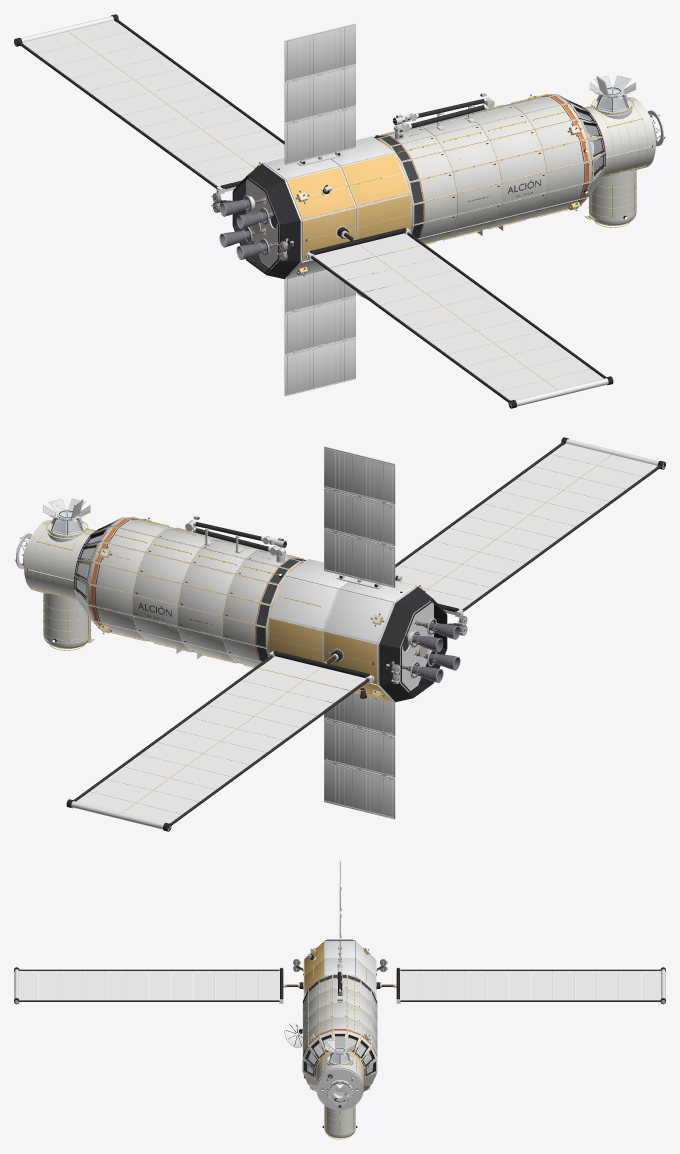
The model's file is alcion_hx4_exterior.glb.
The picture shows the model from 3 angles, top to bottom: view 1: azimuth 30°, elevation 25°; view 2: azimuth 150°, elevation 25°; view 3: azimuth 270°, elevation 25°; orthographic projection. The views are drawn at different scales.
Parts seen in each view (by area): view 1: THR.R1.PNL.P3, THR.R2.PNL.P3, THR.R1.PNL.P1, THR.R1.PNL.P2, THR.R2.PNL.P2, PRP.STR.SKT, SVC.SKN.R1.P4, SVC.SKN.R2.P4, FWD.ALK.MMOD, FWD.MMOD.BLK2, THR.R2.PNL.P1, SVC.SKN.R1.P5 (+57 smaller); view 2: THR.R1.PNL.P3, THR.R2.PNL.P3, THR.R2.PNL.P2, THR.R1.PNL.P1, THR.R1.PNL.P2, PRP.STR.SKT, SVC.SKN.R1.P2, SVC.SKN.R2.P2, FWD.ALK.MMOD, FWD.MMOD.BLK1, THR.R2.PNL.P1, SVC.SKN.R1.P1 (+57 smaller); view 3: FWD.STR.BHF, FWD.ALK.MMOD, PWR.W1.BLK.S02, PWR.W1.BLK.S03, PWR.W1.BLK.S04, PWR.W1.BLK.S05, PWR.W1.BLK.S06, PWR.W1.BLK.S07, PWR.W1.BLK.S08, PWR.W1.BLK.S09, PWR.W1.BLK.S10, PWR.W1.BLK.S11 (+20 smaller).
Part boxes in pixels (x1=…): THR.R1.PNL.P3: x1=284, y1=23, x2=355, y2=81; THR.R2.PNL.P3: x1=284, y1=338, x2=355, y2=396; THR.R1.PNL.P1: x1=284, y1=106, x2=355, y2=164; THR.R1.PNL.P2: x1=284, y1=65, x2=355, y2=123; THR.R2.PNL.P2: x1=284, y1=296, x2=355, y2=354; PRP.STR.SKT: x1=233, y1=163, x2=300, y2=278; SVC.SKN.R1.P4: x1=341, y1=153, x2=410, y2=206; SVC.SKN.R2.P4: x1=286, y1=167, x2=355, y2=219; FWD.ALK.MMOD: x1=588, y1=170, x2=636, y2=225; FWD.MMOD.BLK2: x1=589, y1=100, x2=655, y2=157; THR.R2.PNL.P1: x1=284, y1=269, x2=355, y2=313; SVC.SKN.R1.P5: x1=356, y1=194, x2=410, y2=239; THR.R1.PNL.P3: x1=324, y1=446, x2=395, y2=504; THR.R2.PNL.P3: x1=324, y1=761, x2=395, y2=819; THR.R2.PNL.P2: x1=324, y1=719, x2=395, y2=777; THR.R1.PNL.P1: x1=324, y1=529, x2=395, y2=587; THR.R1.PNL.P2: x1=324, y1=488, x2=395, y2=546; PRP.STR.SKT: x1=379, y1=586, x2=446, y2=702; SVC.SKN.R1.P2: x1=269, y1=576, x2=338, y2=629; SVC.SKN.R2.P2: x1=324, y1=590, x2=393, y2=642; FWD.ALK.MMOD: x1=43, y1=593, x2=91, y2=648; FWD.MMOD.BLK1: x1=24, y1=523, x2=90, y2=580; THR.R2.PNL.P1: x1=324, y1=692, x2=395, y2=736; SVC.SKN.R1.P1: x1=269, y1=617, x2=323, y2=662; FWD.STR.BHF: x1=317, y1=1069, x2=362, y2=1109; FWD.ALK.MMOD: x1=324, y1=1105, x2=355, y2=1138; PWR.W1.BLK.S02: x1=421, y1=971, x2=442, y2=1000; PWR.W1.BLK.S03: x1=443, y1=971, x2=464, y2=1000; PWR.W1.BLK.S04: x1=465, y1=971, x2=486, y2=1000; PWR.W1.BLK.S05: x1=487, y1=971, x2=508, y2=1000; PWR.W1.BLK.S06: x1=509, y1=971, x2=530, y2=1000; PWR.W1.BLK.S07: x1=531, y1=971, x2=552, y2=1000; PWR.W1.BLK.S08: x1=553, y1=971, x2=574, y2=1000; PWR.W1.BLK.S09: x1=575, y1=971, x2=596, y2=1000; PWR.W1.BLK.S10: x1=597, y1=971, x2=618, y2=1000; PWR.W1.BLK.S11: x1=619, y1=971, x2=640, y2=1000.
Bounding box in the file's own units: 19.58 × 15.5 × 39.42.
